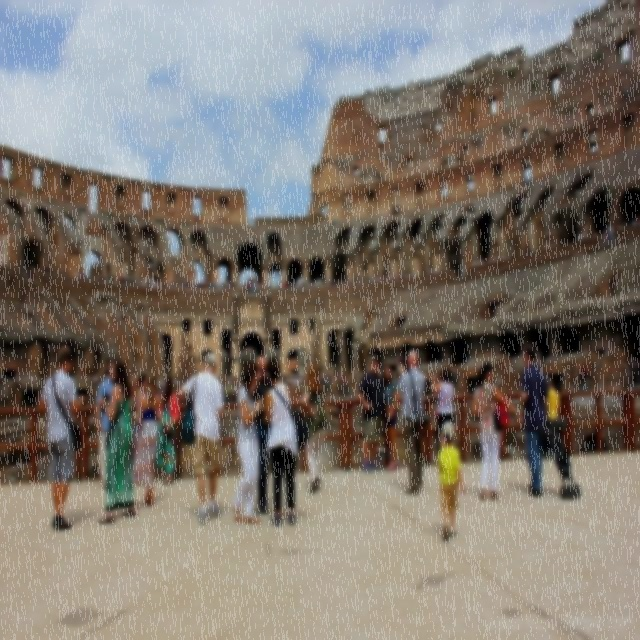pessoa: (69, 251, 524, 304), (36, 344, 86, 534), (176, 348, 226, 526), (470, 356, 524, 504), (95, 354, 138, 526), (263, 356, 298, 528), (230, 356, 264, 524), (394, 347, 432, 497), (518, 342, 552, 500), (247, 353, 273, 516), (299, 361, 329, 496), (436, 418, 466, 544), (356, 352, 386, 474), (135, 371, 161, 507), (566, 348, 640, 393), (154, 371, 182, 488), (94, 356, 115, 492), (429, 362, 457, 452), (381, 364, 401, 474), (279, 365, 352, 393), (570, 217, 640, 246), (131, 370, 148, 462), (545, 377, 561, 462), (148, 368, 187, 402), (220, 372, 242, 406), (19, 260, 39, 282), (83, 371, 103, 384)
